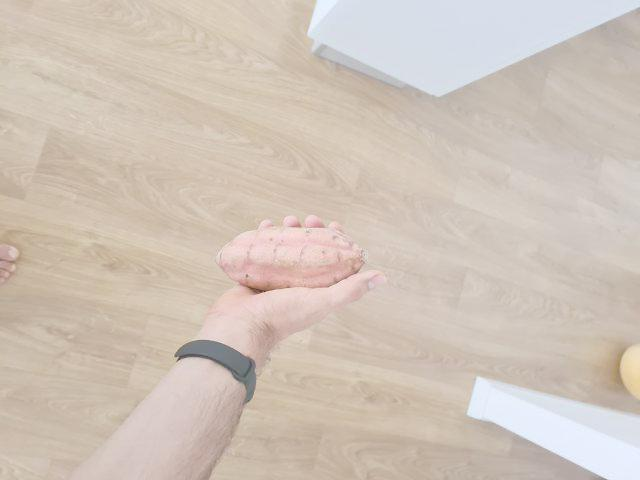sweet_potato: (215, 224, 363, 296)
